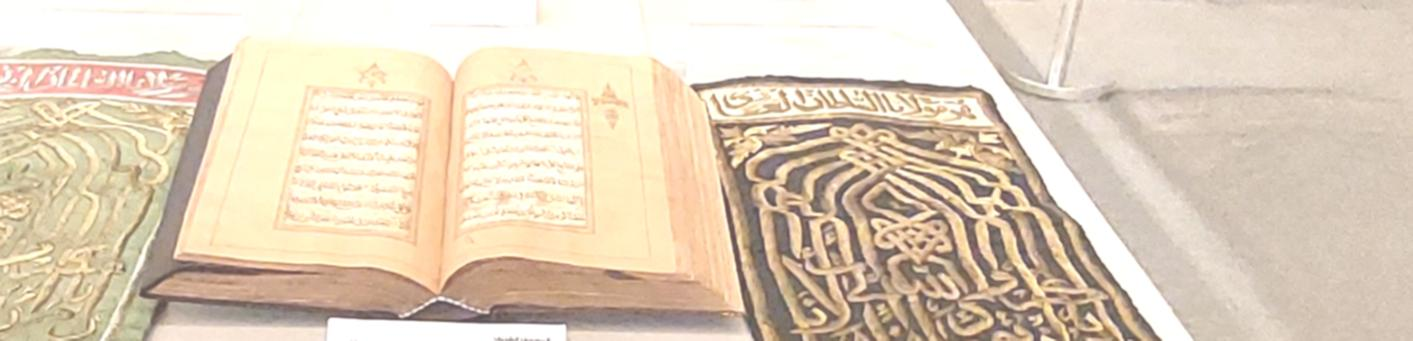The_HolyQuran: (158, 29, 750, 336)
